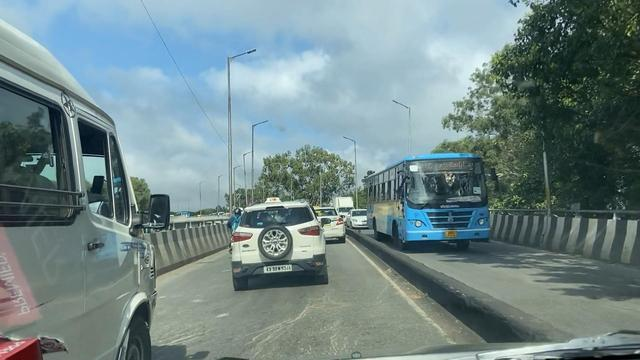LMV: (229, 199, 325, 290)
UnsurfacedRoad: (265, 291, 340, 339)
